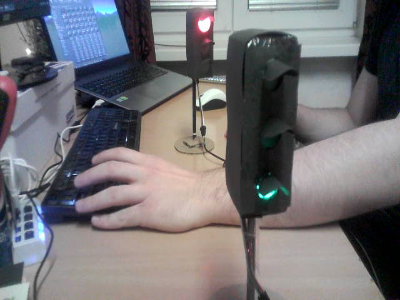trafficlight_green: (249, 45, 292, 210)
trafficlight_red: (194, 12, 214, 77)
